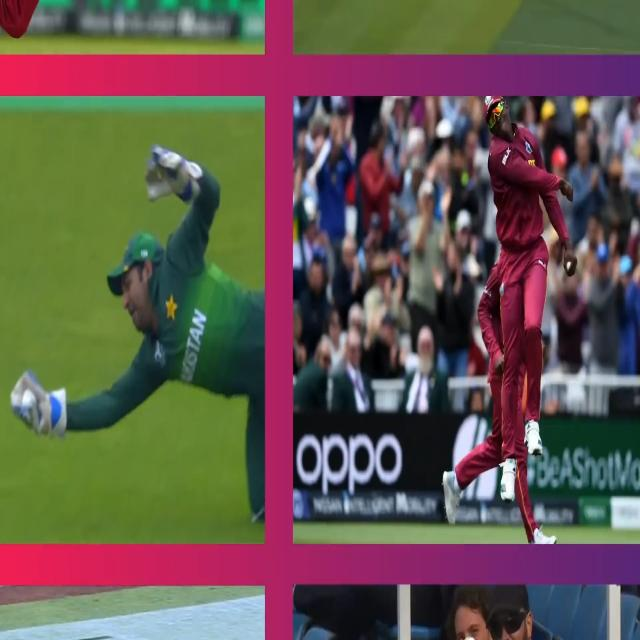ball: (18, 385, 44, 424), (562, 255, 576, 277)
